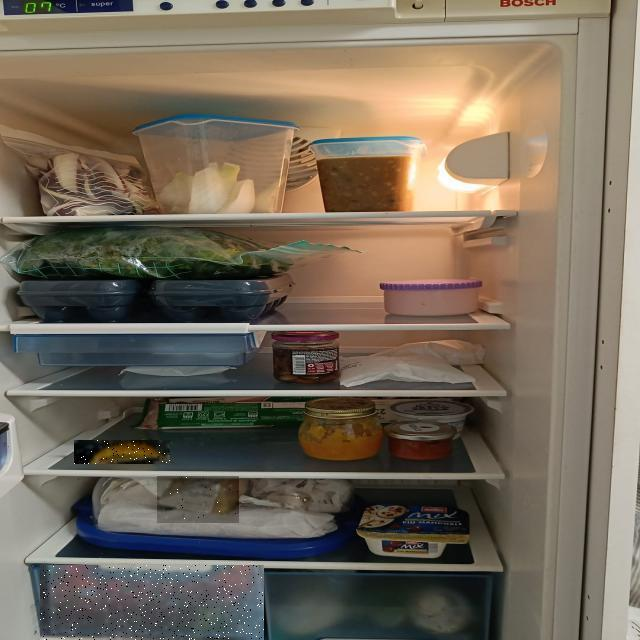Carrot: (40, 565, 264, 640)
Cheese: (157, 476, 239, 523)
Lemon: (74, 440, 170, 464)
